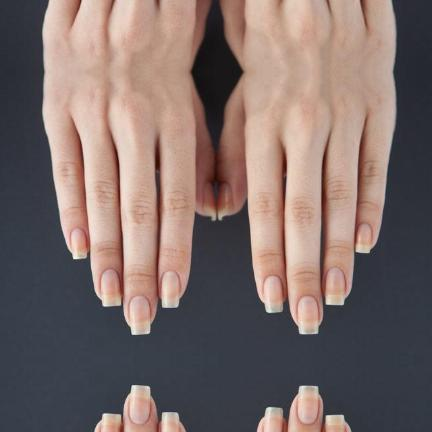Nail: (297, 295, 318, 334), (297, 385, 318, 424), (130, 384, 150, 424), (130, 295, 150, 334), (101, 268, 121, 306), (325, 267, 345, 304), (264, 274, 283, 312), (161, 270, 180, 307), (217, 182, 232, 220), (203, 182, 217, 220), (71, 227, 87, 258), (355, 223, 372, 252), (264, 407, 283, 432), (161, 411, 180, 432), (101, 413, 121, 432), (325, 414, 345, 432)
